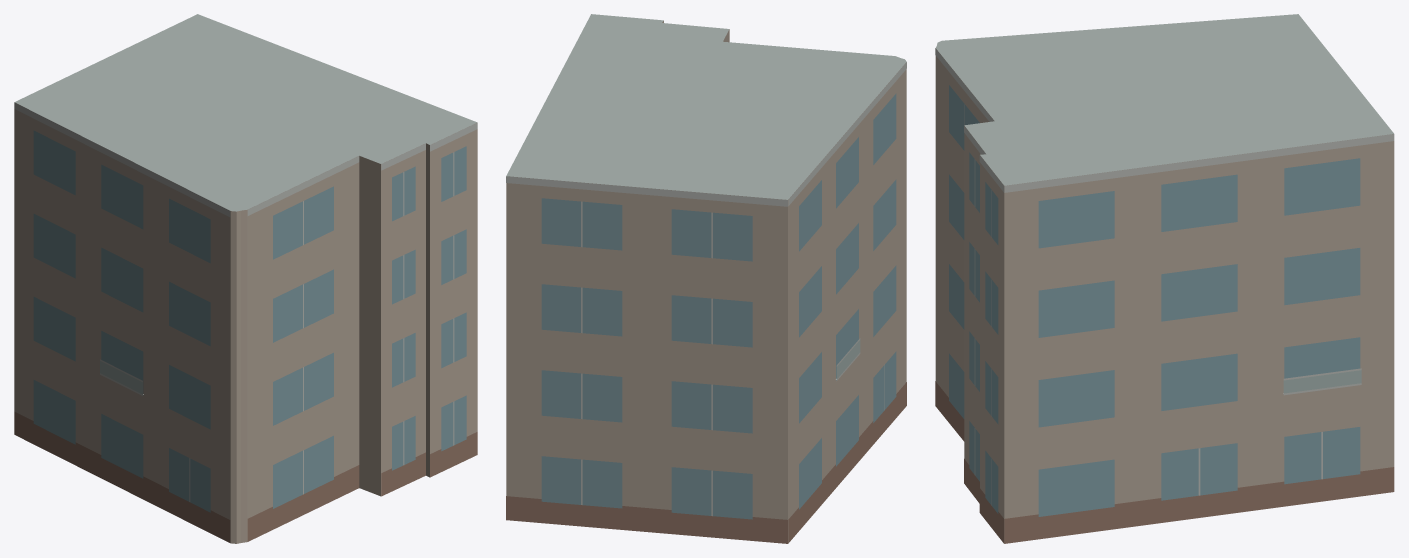
Rendered from survey-upis-32939828.glb.
The picture shows the model from 3 angles, left to right: view 1: azimuth 30°, elevation 25°; view 2: azimuth 150°, elevation 25°; view 3: azimuth 270°, elevation 25°; orthographic projection. The views are drawn at different scales.
Parts seen in each view (by area): view 1: survey-upis-32939828.tmp; view 2: survey-upis-32939828.tmp; view 3: survey-upis-32939828.tmp.
Boxes of the visible parts, x1,y1,x2,y2 form: survey-upis-32939828.tmp: (14, 14, 477, 543); survey-upis-32939828.tmp: (506, 14, 906, 543); survey-upis-32939828.tmp: (935, 14, 1394, 543).
Bounding box in the file's own units: 12.56 × 12.2 × 14.18.
